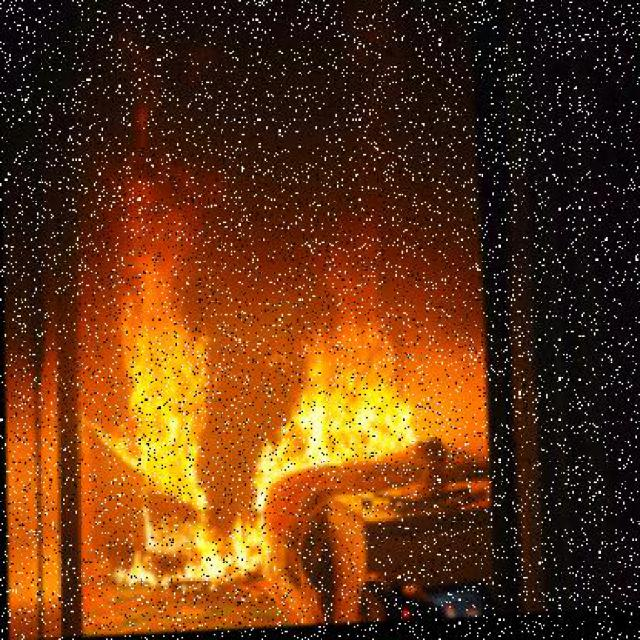fire: (252, 190, 428, 530), (105, 177, 223, 610)
